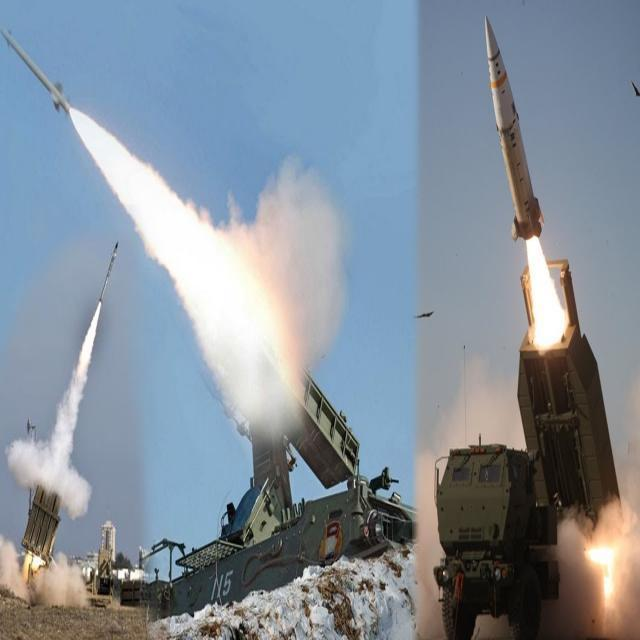missile: (481, 5, 546, 247), (0, 26, 72, 119), (97, 235, 123, 309)
